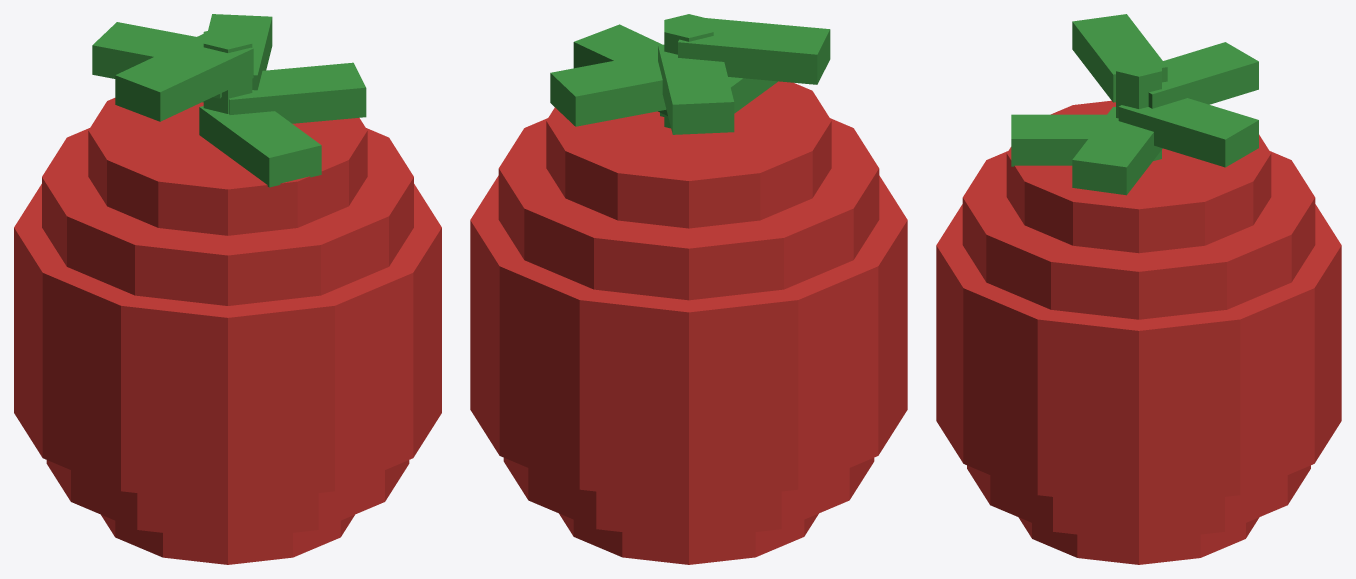
File: tomato.gltf
3 views of the same model, side by side, from view 1: azimuth 30°, elevation 25°; view 2: azimuth 150°, elevation 25°; view 3: azimuth 270°, elevation 25° (orthographic). The views are drawn at different scales.
Visible parts, largest first — view 1: body_mid, body_shoulder_top, body_cap_top, body_shoulder_bottom, leaf_5, leaf_1, leaf_2, body_cap_bottom, leaf_4, leaf_3, stem; view 2: body_mid, body_shoulder_top, body_cap_top, body_shoulder_bottom, leaf_5, leaf_3, body_cap_bottom, leaf_4, leaf_2, stem, leaf_1; view 3: body_mid, body_shoulder_top, body_cap_top, body_shoulder_bottom, leaf_3, body_cap_bottom, leaf_2, leaf_4, leaf_1, leaf_5, stem.
Part boxes in pixels (x1,y1,x2,y2): body_mid: (14,184,441,503); body_shoulder_top: (42,128,413,305); body_cap_top: (88,98,367,235); body_shoulder_bottom: (46,460,409,540); leaf_5: (115,34,253,121); leaf_1: (199,106,321,187); leaf_2: (229,62,366,123); body_cap_bottom: (101,515,354,564); leaf_4: (92,22,221,98); leaf_3: (202,14,272,102); stem: (203,26,252,113); body_mid: (470,175,907,501); body_shoulder_top: (498,118,879,300); body_cap_top: (546,81,831,228); body_shoulder_bottom: (503,458,874,539); leaf_5: (678,18,830,84); leaf_3: (550,52,666,126); body_cap_bottom: (559,513,818,564); leaf_4: (658,44,734,134); leaf_2: (573,24,667,115); stem: (664,14,713,128); leaf_1: (660,77,777,116); body_mid: (936,204,1341,506); body_shoulder_top: (962,151,1315,319); body_cap_top: (1006,100,1271,253); body_shoulder_bottom: (967,465,1310,541); leaf_3: (1118,98,1258,167); body_cap_bottom: (1018,517,1259,564); leaf_2: (1072,106,1162,195); leaf_4: (1148,42,1258,108); leaf_1: (1011,114,1106,166); leaf_5: (1072,14,1167,102); stem: (1116,54,1161,160).
Bounding box in the file's own units: 0.092 × 0.112 × 0.092.
Materials: 2 (2 with a texture image).
